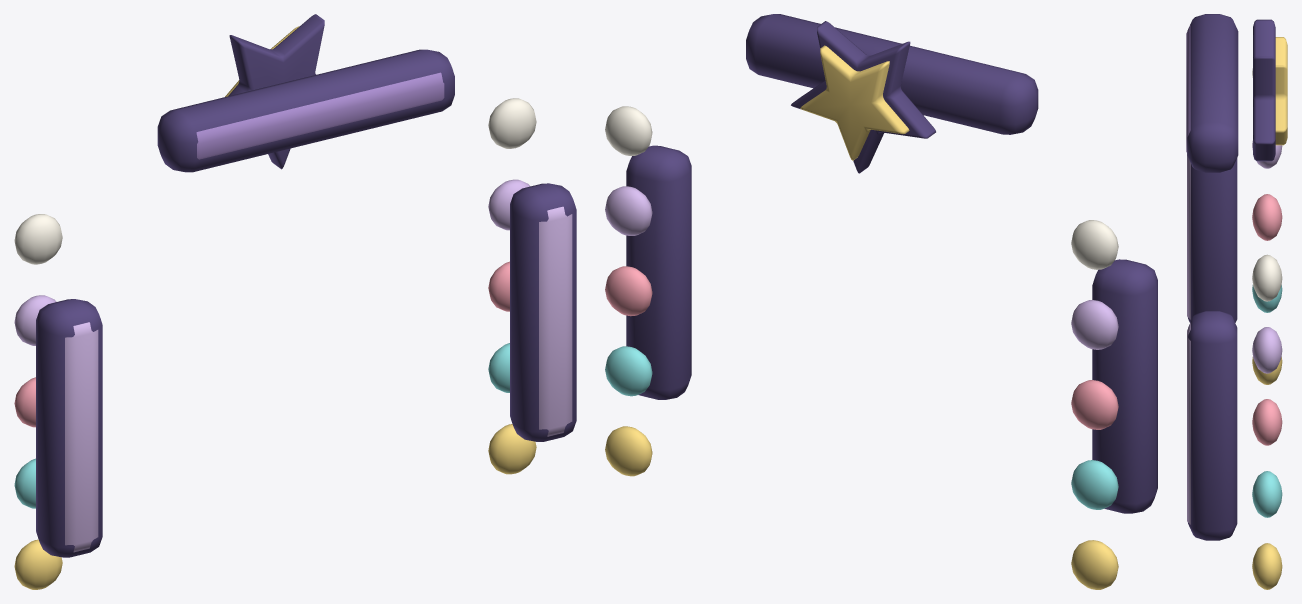
The model's file is dungeon_gate.glb.
3 views of the same model, side by side, from view 1: azimuth 30°, elevation 25°; view 2: azimuth 150°, elevation 25°; view 3: azimuth 270°, elevation 25° (orthographic). The views are drawn at different scales.
Visible parts, largest first — view 1: LintelInk, PillarInk_1.0, PillarInk_-1.0, Pillar_1.0, Pillar_-1.0, Lintel, GateStarInk, RoomPearl_R_5, RoomPearl_L_5, RoomPearl_R_1, RoomPearl_L_1, RoomPearl_R_4 (+5 smaller); view 2: LintelInk, PillarInk_1.0, PillarInk_-1.0, GateStar, GateStarInk, RoomPearl_R_1, RoomPearl_L_1, RoomPearl_L_2, RoomPearl_L_5, RoomPearl_R_2, RoomPearl_L_3, RoomPearl_L_4 (+3 smaller); view 3: PillarInk_1.0, LintelInk, PillarInk_-1.0, GateStarInk, GateStar, RoomPearl_L_3, RoomPearl_R_1, RoomPearl_R_2, RoomPearl_R_3, RoomPearl_R_4, RoomPearl_R_5, Pillar_1.0 (+5 smaller).
Boxes of the visible parts, x1,y1,x2,y2 form: LintelInk: (157, 49, 454, 172); PillarInk_1.0: (510, 183, 576, 441); PillarInk_-1.0: (36, 299, 102, 557); Pillar_1.0: (539, 206, 572, 436); Pillar_-1.0: (65, 322, 98, 552); Lintel: (196, 72, 444, 159); GateStarInk: (228, 14, 324, 169); RoomPearl_R_5: (488, 98, 536, 148); RoomPearl_L_5: (14, 214, 62, 264); RoomPearl_R_1: (488, 424, 536, 474); RoomPearl_L_1: (14, 539, 62, 589); RoomPearl_R_4: (488, 179, 530, 230); LintelInk: (746, 14, 1038, 134); PillarInk_1.0: (626, 145, 691, 399); PillarInk_-1.0: (1092, 259, 1157, 513); GateStar: (800, 45, 909, 160); GateStarInk: (791, 21, 935, 173); RoomPearl_R_1: (605, 426, 652, 476); RoomPearl_L_1: (1071, 540, 1118, 589); RoomPearl_L_2: (1071, 460, 1118, 509); RoomPearl_L_5: (1071, 220, 1118, 269); RoomPearl_R_2: (605, 346, 652, 396); RoomPearl_L_3: (1071, 380, 1118, 429); RoomPearl_L_4: (1071, 300, 1118, 349); PillarInk_1.0: (1188, 311, 1237, 540); LintelInk: (1187, 14, 1238, 172); PillarInk_-1.0: (1188, 158, 1237, 322); GateStarInk: (1253, 19, 1275, 161); GateStar: (1275, 37, 1287, 145); RoomPearl_L_3: (1252, 194, 1282, 240); RoomPearl_R_1: (1252, 543, 1282, 589); RoomPearl_R_2: (1252, 471, 1282, 517); RoomPearl_R_3: (1252, 399, 1282, 445); RoomPearl_R_4: (1252, 327, 1282, 373); RoomPearl_R_5: (1252, 254, 1282, 301); Pillar_1.0: (1187, 322, 1190, 524).
Size of the model in its own units: 7.14 by 6.51 by 1.34.
